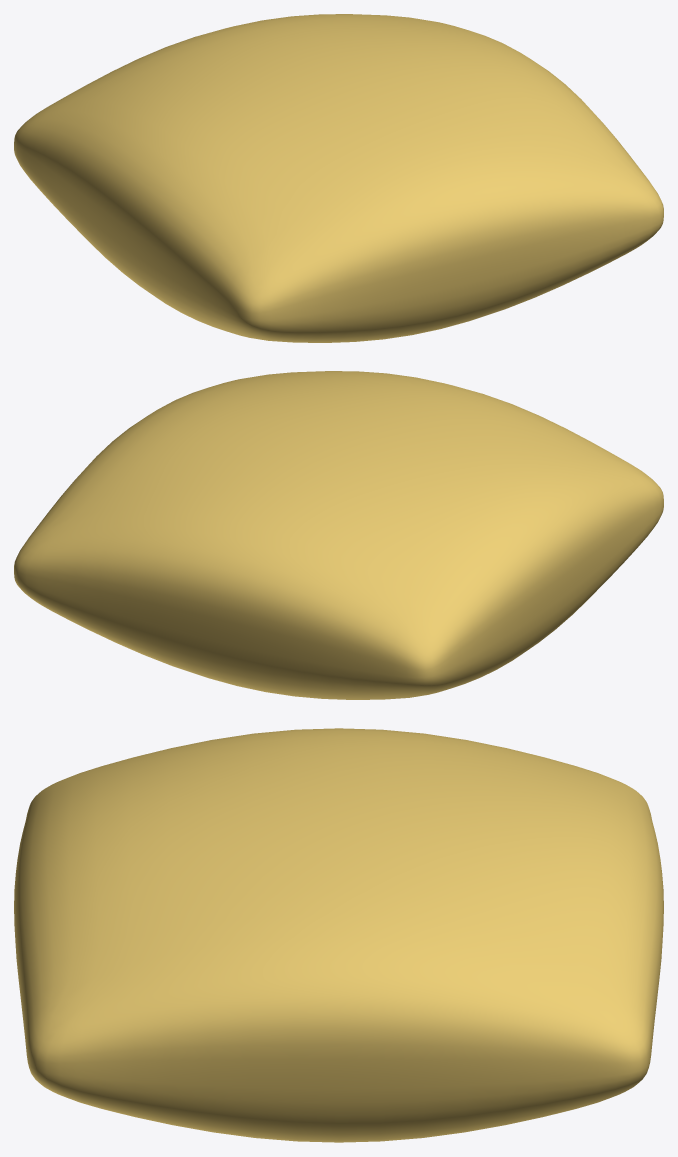
File: baglying_01.fbx
3 renders of one model, top to bottom at view 1: azimuth 30°, elevation 25°; view 2: azimuth 150°, elevation 25°; view 3: azimuth 270°, elevation 25°, orthographic. The views are drawn at different scales.
Visible parts, largest first — view 1: Cube.044; view 2: Cube.044; view 3: Cube.044.
Part boxes in pixels (x1=…): Cube.044: x1=14, y1=14, x2=663, y2=342; Cube.044: x1=14, y1=371, x2=663, y2=699; Cube.044: x1=14, y1=728, x2=663, y2=1142.
Bounding box in the file's own units: 108 × 47.9 × 108.
